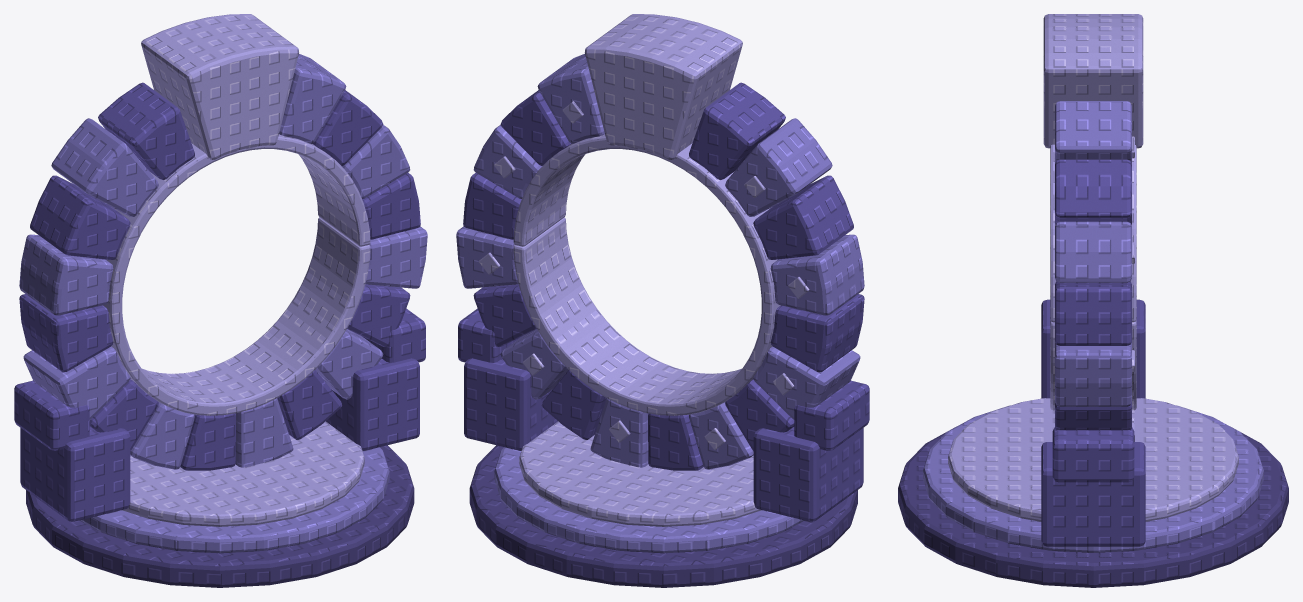
File: Portal.fbx
The picture shows the model from 3 angles, left to right: view 1: azimuth 30°, elevation 25°; view 2: azimuth 150°, elevation 25°; view 3: azimuth 270°, elevation 25°; orthographic projection.
Visible parts, largest first — view 1: Portal_Ring0, Portal_Ring1, Portal_Trim, Portal_Feet, Portal_Keystone, Portal_Base, Portal_Top, Portal_Step; view 2: Portal_Ring1, Portal_Ring0, Portal_Trim, Portal_Feet, Portal_Keystone, Portal_Base, Portal_Top, Portal_Step, Portal_Runes; view 3: Portal_Top, Portal_Base, Portal_Ring0, Portal_Feet, Portal_Ring1, Portal_Step, Portal_Keystone, Portal_Trim.
Part boxes in pixels (left/top/right/bottom): Portal_Ring0: left=19, top=54, right=427, bottom=469; Portal_Ring1: left=19, top=82, right=420, bottom=470; Portal_Trim: left=103, top=134, right=370, bottom=415; Portal_Feet: left=14, top=308, right=425, bottom=521; Portal_Keystone: left=141, top=14, right=299, bottom=159; Portal_Base: left=26, top=445, right=414, bottom=587; Portal_Top: left=122, top=421, right=364, bottom=526; Portal_Step: left=79, top=447, right=389, bottom=553; Portal_Ring1: left=463, top=82, right=864, bottom=470; Portal_Ring0: left=456, top=54, right=864, bottom=469; Portal_Trim: left=513, top=134, right=780, bottom=415; Portal_Feet: left=458, top=308, right=869, bottom=521; Portal_Keystone: left=584, top=14, right=742, bottom=159; Portal_Base: left=469, top=445, right=857, bottom=587; Portal_Top: left=519, top=421, right=761, bottom=526; Portal_Step: left=494, top=447, right=804, bottom=553; Portal_Runes: left=479, top=101, right=809, bottom=449; Portal_Top: left=948, top=398, right=1238, bottom=521; Portal_Base: left=898, top=426, right=1288, bottom=587; Portal_Ring0: left=1055, top=101, right=1131, bottom=406; Portal_Feet: left=1041, top=299, right=1145, bottom=546; Portal_Ring1: left=1055, top=159, right=1131, bottom=430; Portal_Step: left=923, top=405, right=1263, bottom=552; Portal_Keystone: left=1043, top=14, right=1143, bottom=148; Portal_Trim: left=1050, top=144, right=1136, bottom=410.
Size of the model in its own units: 19.33 by 23.03 by 17.2.
Materials: 4 (4 with a texture image).
